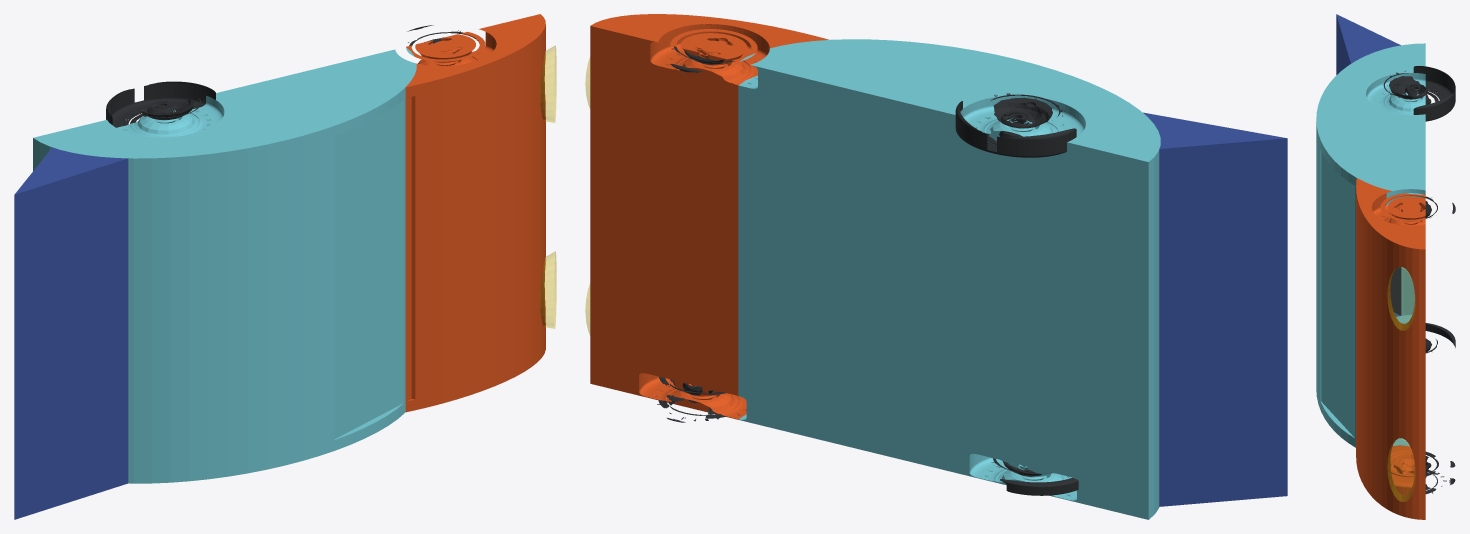
The model's file is tinker.obj.
3 views of the same model, side by side, from view 1: azimuth 30°, elevation 25°; view 2: azimuth 150°, elevation 25°; view 3: azimuth 270°, elevation 25° (orthographic). The views are drawn at different scales.
Parts seen in each view (by area): view 1: group_0_7720667, group_0_14900002, group_0_3888547, group_0_2829873, group_0_-1023419110; view 2: group_0_7720667, group_0_14900002, group_0_3888547, group_0_2829873; view 3: group_0_7720667, group_0_14900002, group_0_2829873, group_0_-1023419110, group_0_3888547.
Boxes of the visible parts, bbox=[...] form: group_0_7720667: bbox=[33, 47, 416, 483]; group_0_14900002: bbox=[405, 14, 545, 412]; group_0_3888547: bbox=[14, 147, 128, 519]; group_0_2829873: bbox=[106, 25, 462, 127]; group_0_-1023419110: bbox=[540, 45, 556, 328]; group_0_7720667: bbox=[738, 39, 1160, 519]; group_0_14900002: bbox=[590, 14, 829, 419]; group_0_3888547: bbox=[1143, 112, 1287, 506]; group_0_2829873: bbox=[657, 46, 1078, 495]; group_0_7720667: bbox=[1316, 43, 1425, 447]; group_0_14900002: bbox=[1356, 178, 1425, 519]; group_0_2829873: bbox=[1383, 66, 1455, 494]; group_0_-1023419110: bbox=[1387, 267, 1415, 501]; group_0_3888547: bbox=[1336, 14, 1401, 316].
Size of the model in its own units: 57 by 31 by 14.01.
